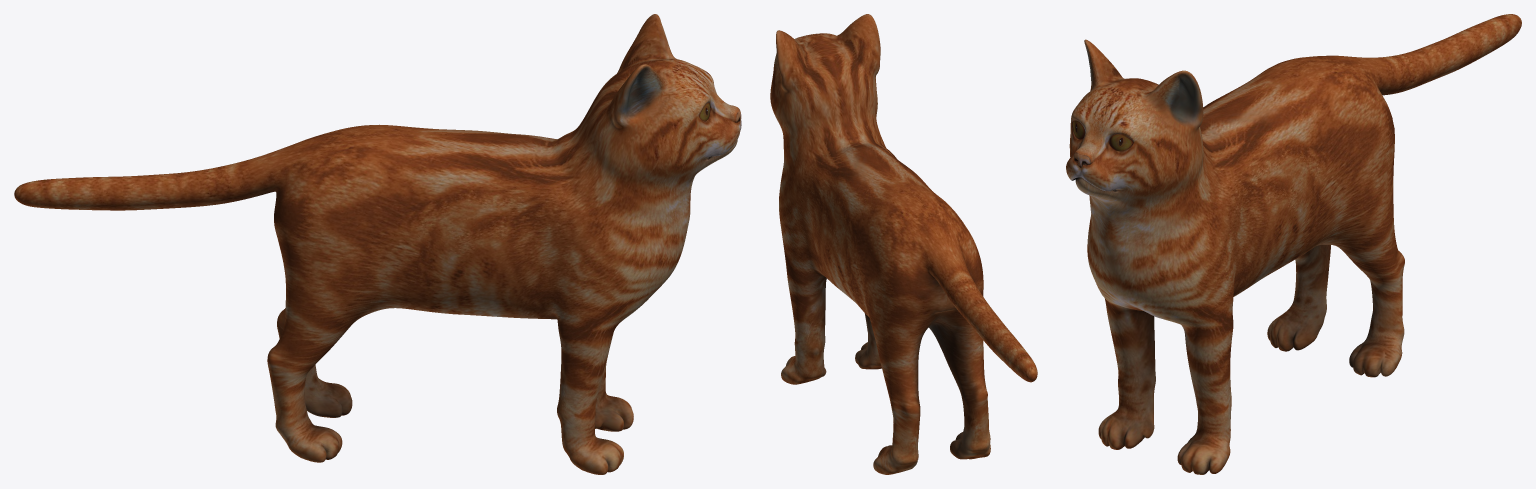
File: cat.glb
The picture shows the model from 3 angles, left to right: view 1: azimuth 30°, elevation 25°; view 2: azimuth 150°, elevation 25°; view 3: azimuth 270°, elevation 25°; orthographic projection. The views are drawn at different scales.
Visible parts, largest first — view 1: 12221_Cat_v1_l3; view 2: 12221_Cat_v1_l3; view 3: 12221_Cat_v1_l3.
Part boxes in pixels (x1,y1,x2,y2): 12221_Cat_v1_l3: [14, 14, 741, 474]; 12221_Cat_v1_l3: [770, 14, 1037, 474]; 12221_Cat_v1_l3: [1066, 14, 1521, 474].
Bounding box in the file's own units: 34.84 × 26.33 × 26.16.
Materials: 1 (1 with a texture image).
